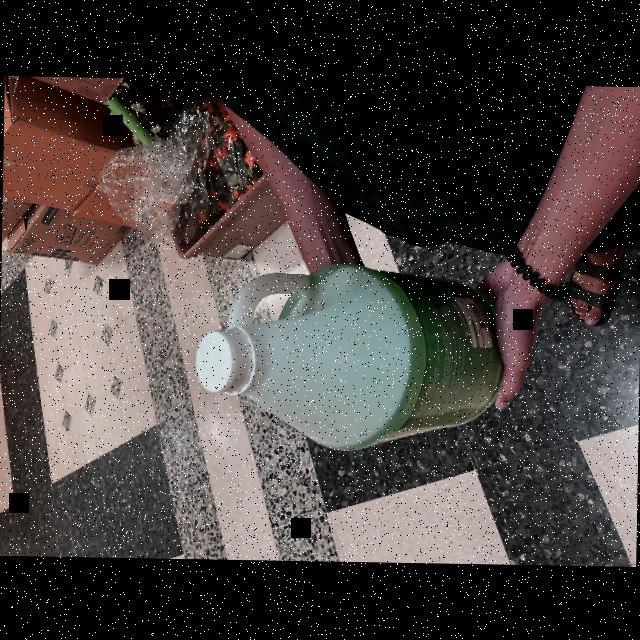chemical_plastic_gallon: (190, 262, 504, 455)
